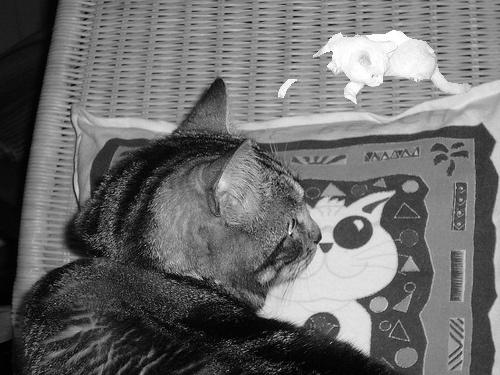tampered: (279, 31, 471, 104)
